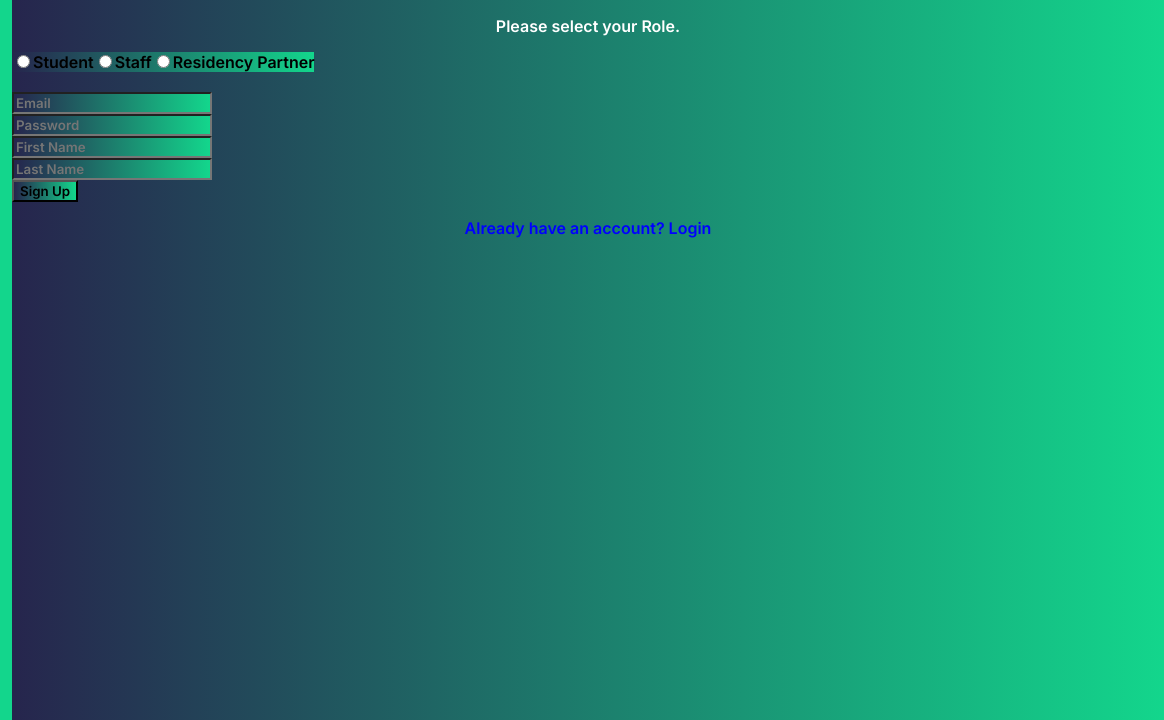
Test case: LoginForm › toggles to sign up form
Click the text "Already have an account? Login" at (588, 228), box left=465, top=218, right=711, bottom=238
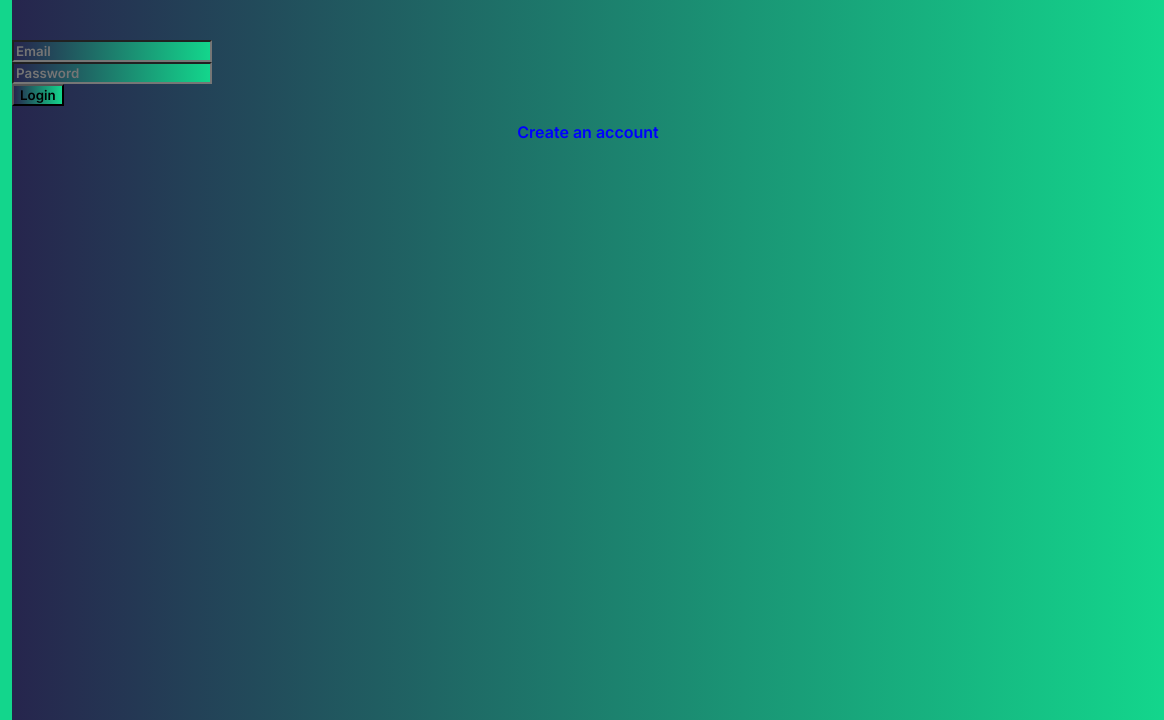
expect the button "Login" is shown: met, box left=12, top=84, right=64, bottom=106
expect the text "Create an account" is shown: met, box left=517, top=122, right=659, bottom=142
